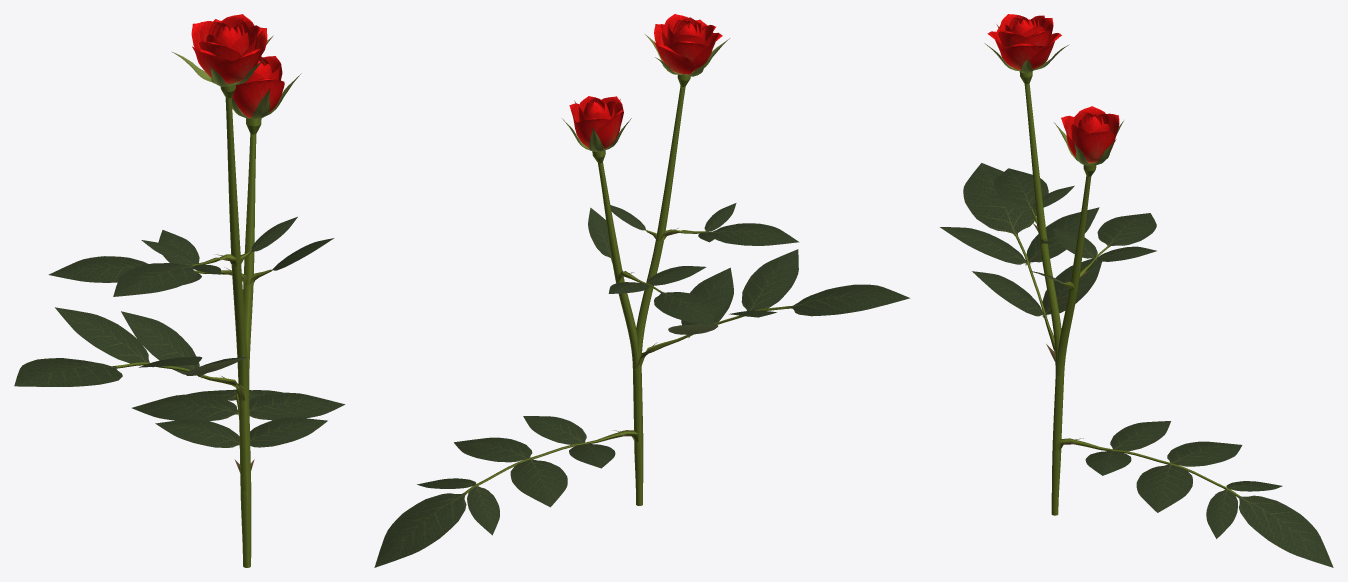
File: fl^RoseR.fbx
3 renders of one model, left to right at view 1: azimuth 30°, elevation 25°; view 2: azimuth 150°, elevation 25°; view 3: azimuth 270°, elevation 25°, orthographic. The views are drawn at different scales.
Visible parts, largest first — view 1: object; view 2: object; view 3: object.
Boxes of the visible parts, x1=… form: object: x1=14, y1=14, x2=345, y2=567; object: x1=374, y1=14, x2=910, y2=567; object: x1=940, y1=14, x2=1333, y2=567.
Bounding box in the file's own units: 1.91 × 2.32 × 1.73.
1 material, 1 textured.
